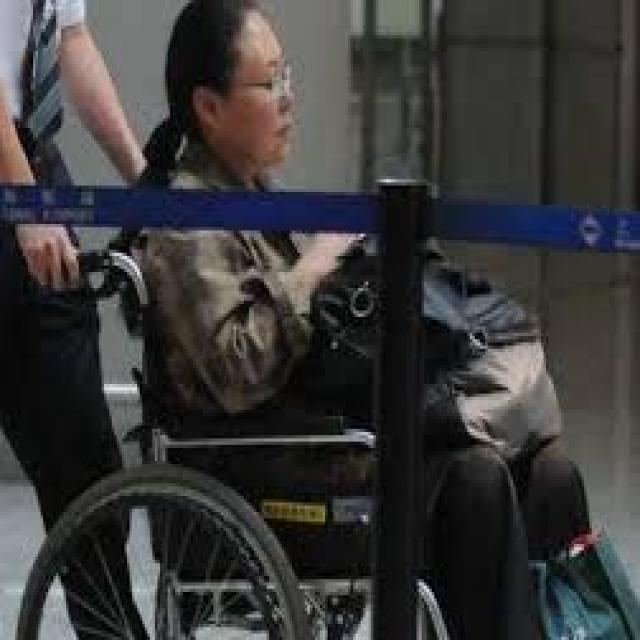wheelchairs: (15, 234, 597, 636)
